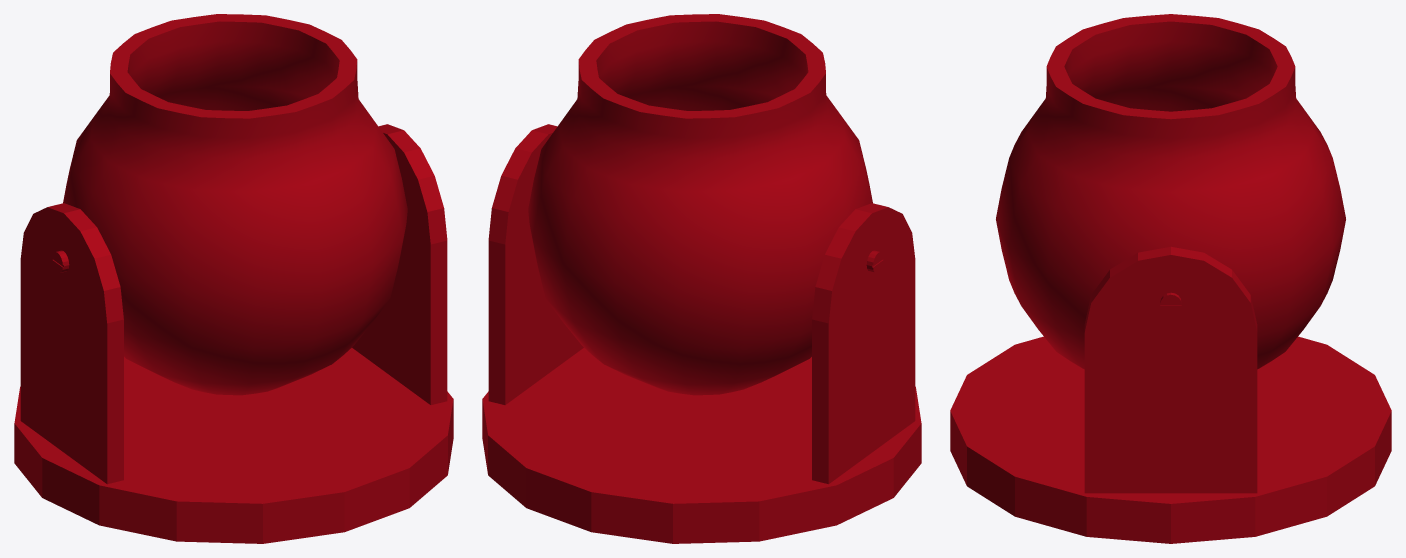
File: cannon.fbx
3 views of the same model, side by side, from view 1: azimuth 30°, elevation 25°; view 2: azimuth 150°, elevation 25°; view 3: azimuth 270°, elevation 25° (orthographic).
Parts seen in each view (by area): view 1: Sphere, Circle; view 2: Sphere, Circle; view 3: Circle, Sphere.
Part boxes in pixels (box(x1,y1,x2,y2)): Sphere: box(63, 14, 407, 395); Circle: box(14, 124, 453, 543); Sphere: box(528, 14, 872, 395); Circle: box(482, 124, 921, 543); Circle: box(950, 246, 1391, 543); Sphere: box(996, 14, 1345, 369).
Size of the model in its own units: 200 by 192 by 200.
